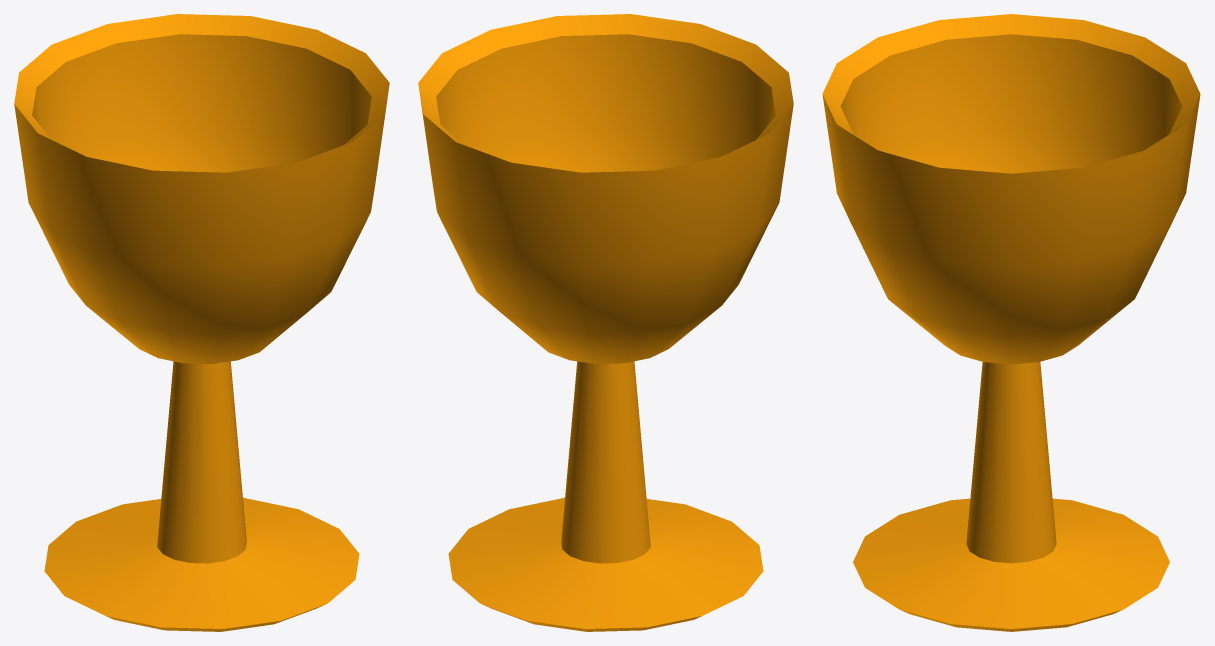
The model's file is Trophy.fbx.
3 renders of one model, left to right at view 1: azimuth 30°, elevation 25°; view 2: azimuth 150°, elevation 25°; view 3: azimuth 270°, elevation 25°, orthographic.
Visible parts, largest first — view 1: Sphere; view 2: Sphere; view 3: Sphere.
Boxes of the visible parts, x1,y1,x2,y2 form: Sphere: (14, 14, 389, 631); Sphere: (418, 14, 793, 631); Sphere: (822, 14, 1200, 631).
Size of the model in its own units: 132 by 184 by 132.
